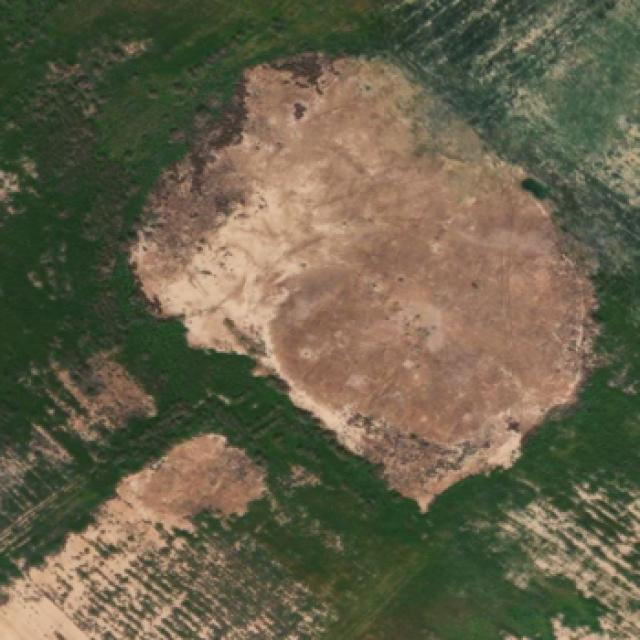vegetation: (28, 42, 159, 174), (328, 502, 460, 598), (111, 321, 194, 390)
